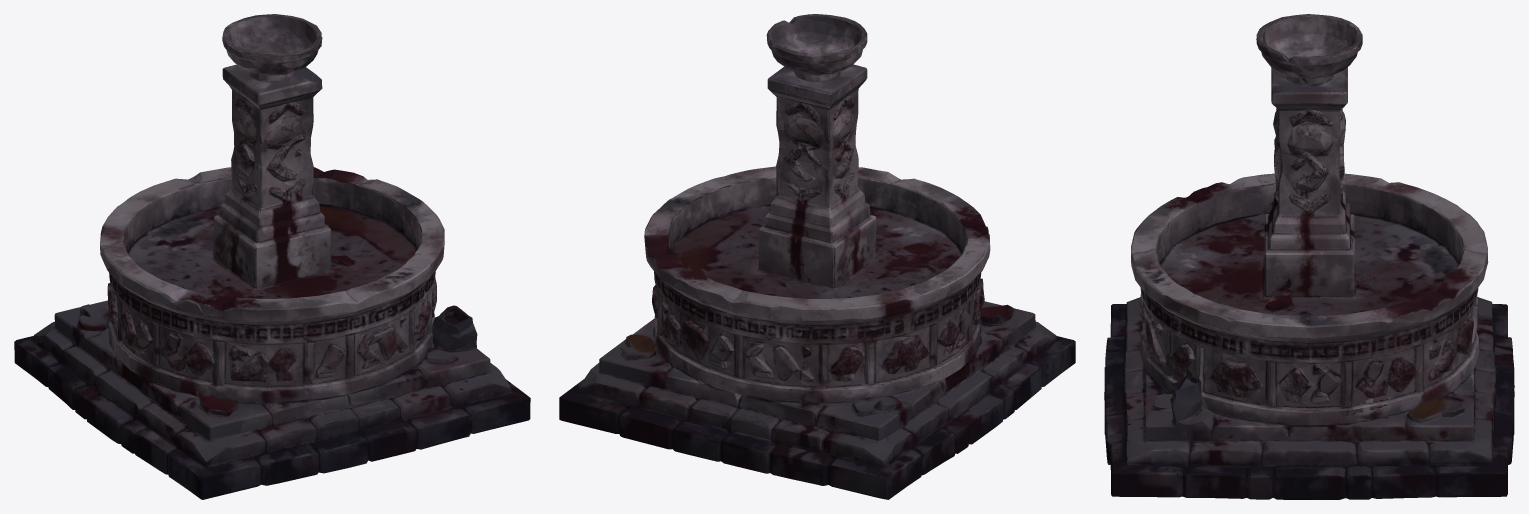
Rendered from fontaine1_LOD0.glb.
3 renders of one model, left to right at view 1: azimuth 30°, elevation 25°; view 2: azimuth 150°, elevation 25°; view 3: azimuth 270°, elevation 25°, orthographic. The views are drawn at different scales.
Visible parts, largest first — view 1: world; view 2: world; view 3: world.
Part boxes in pixels (<box>): world: <box>14,14,530,499</box>; world: <box>559,14,1075,499</box>; world: <box>1104,14,1514,499</box>.
Size of the model in its own units: 0.9988 by 1 by 0.9843.
Materials: 1 (1 with a texture image).
